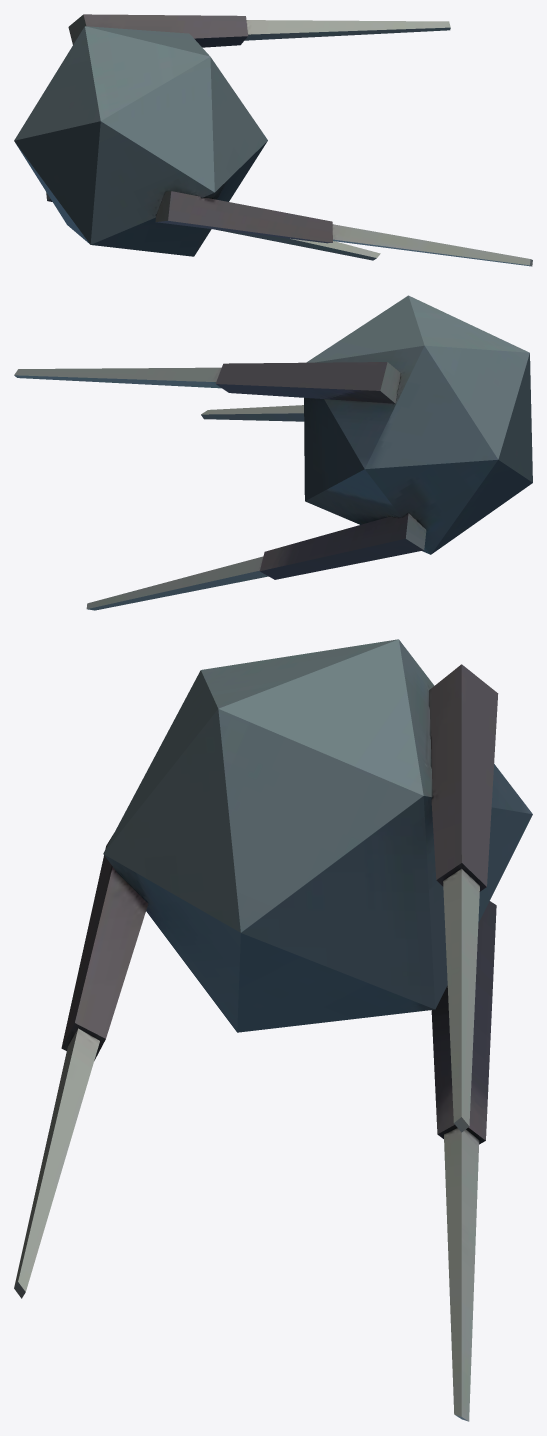
Rendered from bLpQhKoSI3o.glb.
The picture shows the model from 3 angles, top to bottom: view 1: azimuth 30°, elevation 25°; view 2: azimuth 150°, elevation 25°; view 3: azimuth 270°, elevation 25°; orthographic projection. The views are drawn at different scales.
Parts seen in each view (by area): view 1: satellite; view 2: satellite; view 3: satellite.
Part boxes in pixels (box(x1,y1,x2,y2)): satellite: box(14, 14, 532, 266); satellite: box(14, 295, 532, 610); satellite: box(14, 639, 532, 1421).
Size of the model in its own units: 1.48 by 1 by 0.8826.
1 material, 1 textured.
